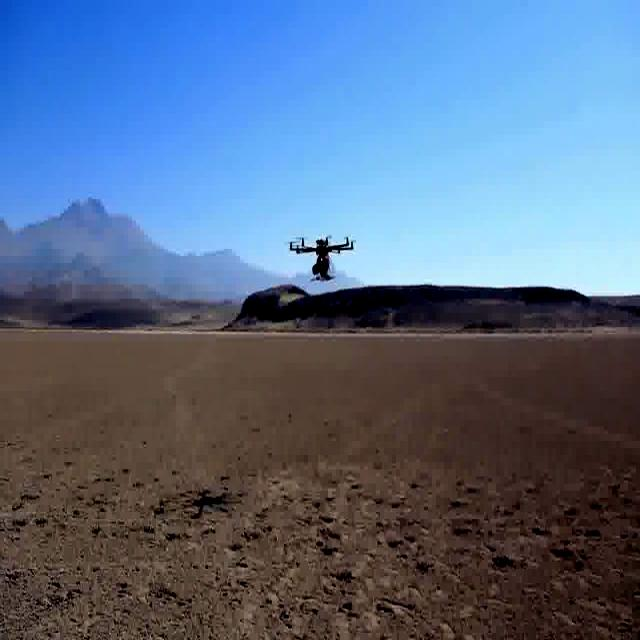drone: (287, 228, 356, 289)
